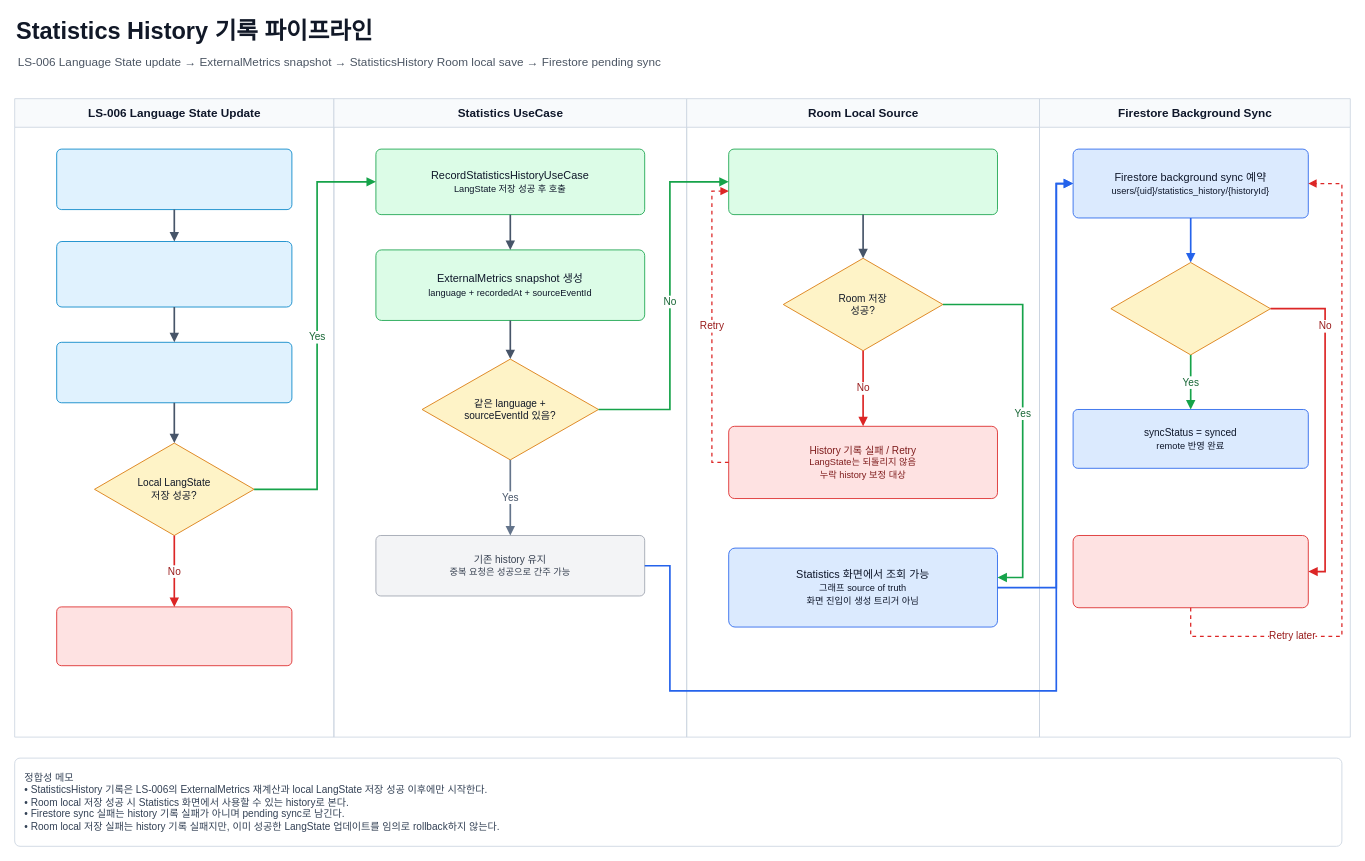
The diagram is 1365 pixels wide and 861 high, and some of its shapes have lost their labels. The shapes that lost their labels are listed below. From the top down, each one's centre as x and y in pixels, then its label:
the point at 174,179: 분석 payload 생성 Correction / 학습 분석 입력
the point at 863,181: StatisticsHistory local 저장 Room local first
the point at 174,274: Internal Metrics 업데이트 Type A/B/C + 이동평균
the point at 1190,308: Firestore sync 성공?
the point at 174,372: ExternalMetrics 재계산 MVP 5개 지표
the point at 1190,571: syncStatus = pending / failed 화면 실패 아님 다음 sync에서 재시도
the point at 174,636: Language State 업데이트 실패 history 기록 시작하지 않음
